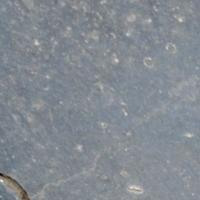crack: (0, 153, 43, 199)
